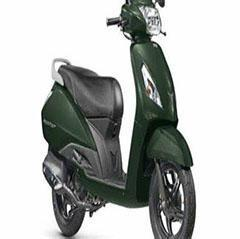motorcycle: (30, 1, 208, 236)
